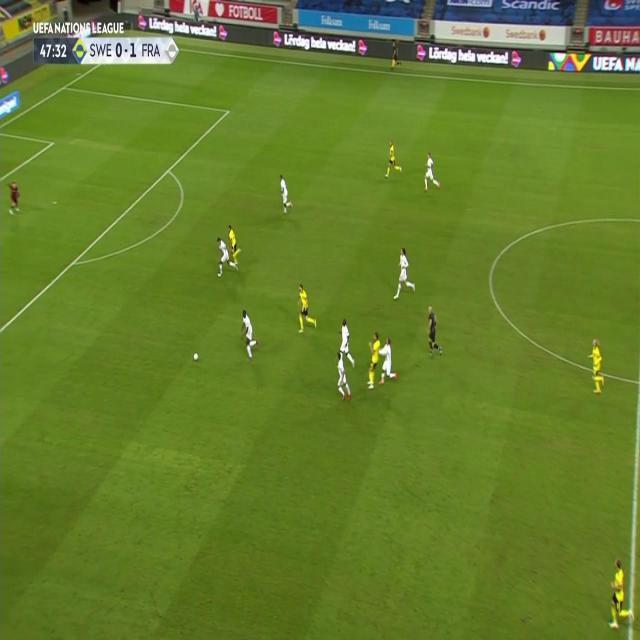ball: (192, 351, 199, 362)
goalkeeper: (7, 178, 21, 213)
player: (608, 558, 634, 629), (393, 245, 416, 300), (295, 282, 317, 336), (239, 307, 261, 361), (587, 336, 606, 396), (337, 316, 357, 368), (216, 237, 240, 278), (379, 335, 398, 385), (366, 331, 381, 390), (335, 351, 352, 402), (423, 149, 441, 192), (384, 139, 402, 178), (228, 222, 243, 267), (278, 174, 294, 215)
referee: (425, 303, 444, 357), (389, 39, 399, 70)
